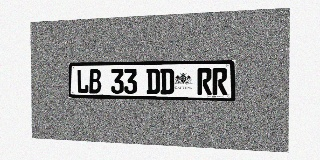3: (111, 69, 124, 94), (124, 69, 137, 94)
B: (89, 69, 101, 94)
D: (146, 68, 160, 94), (160, 68, 174, 94)
L: (77, 69, 89, 93)
R: (197, 68, 212, 95), (212, 68, 227, 95)
